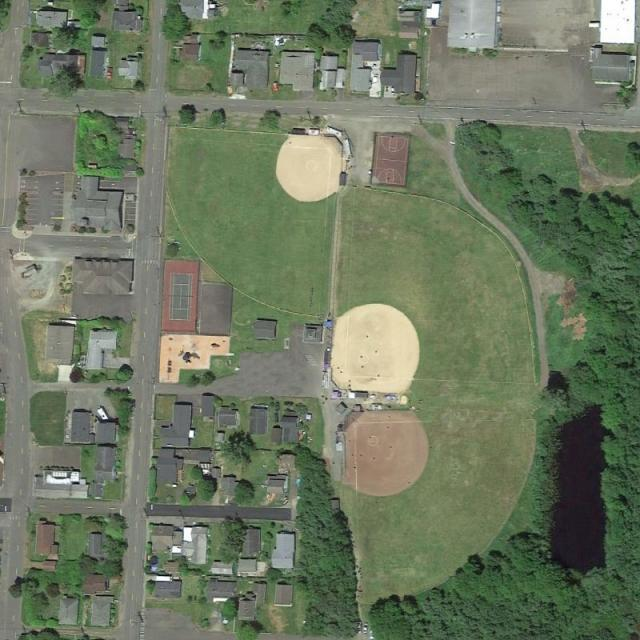vehicle: (106, 66, 113, 78), (271, 82, 278, 93), (357, 621, 362, 633), (363, 622, 368, 634)
